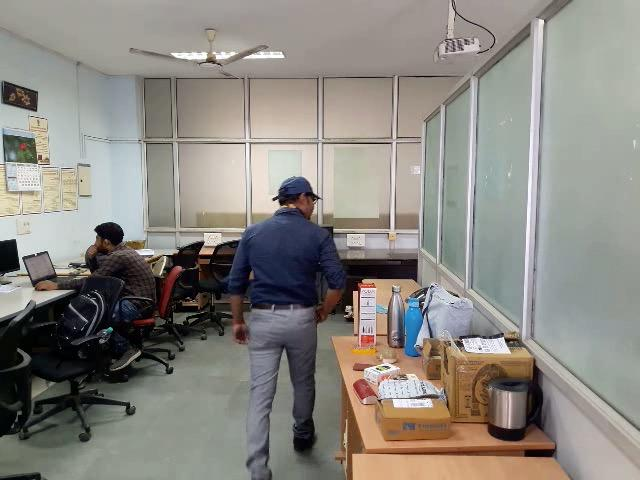shoplifting: (310, 297, 343, 331)
